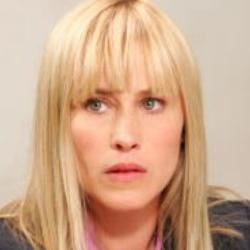face: (23, 1, 223, 242)
